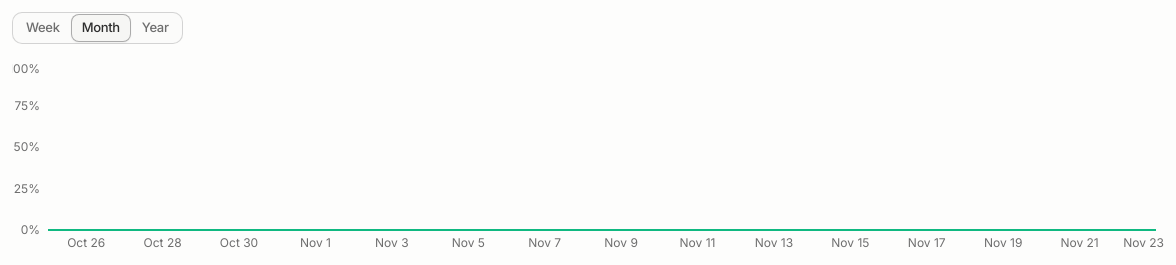
HabitScoreChart › switches period on toggle click
The image size is (1176, 265).
Press the mouse on the tab "Week" at {"x": 43, "y": 28}, box [15,14,71,42]
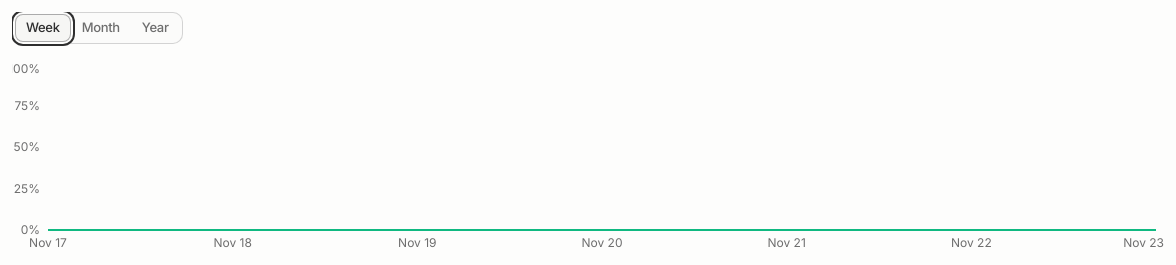
Result: the tab "Week" is selected at [15,14,71,42]
Result: the tab "Month" is not selected at [71,14,131,42]
